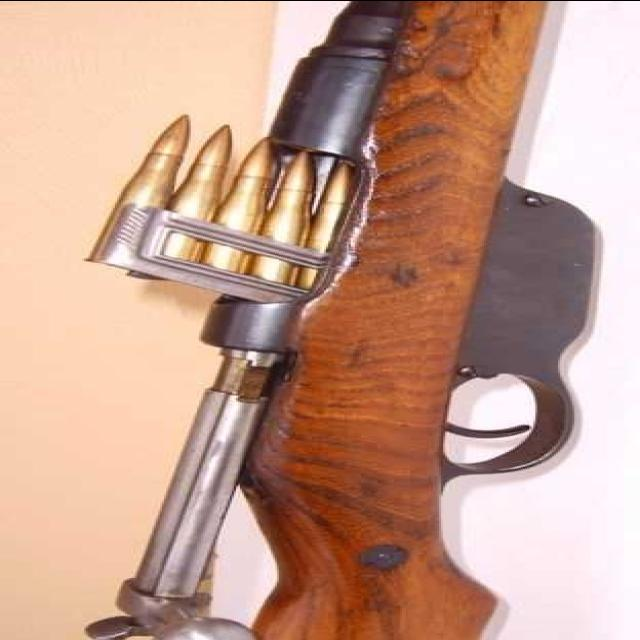heavyweapon: (99, 1, 640, 640)
